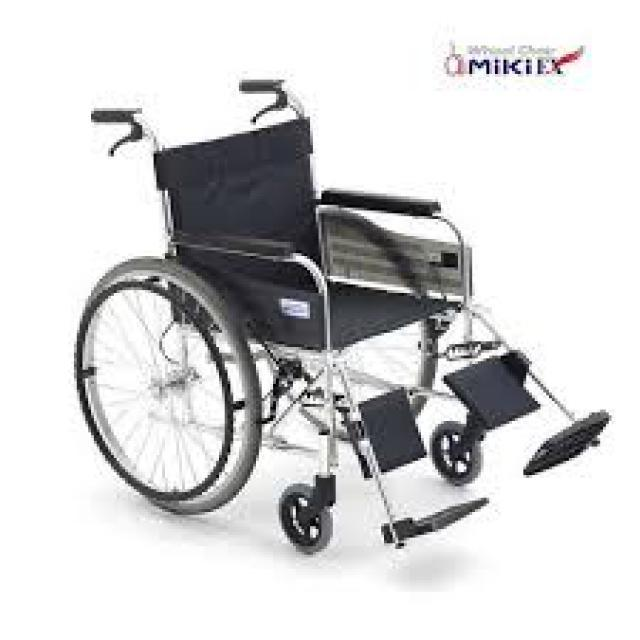wheelchair: (60, 68, 618, 560)
